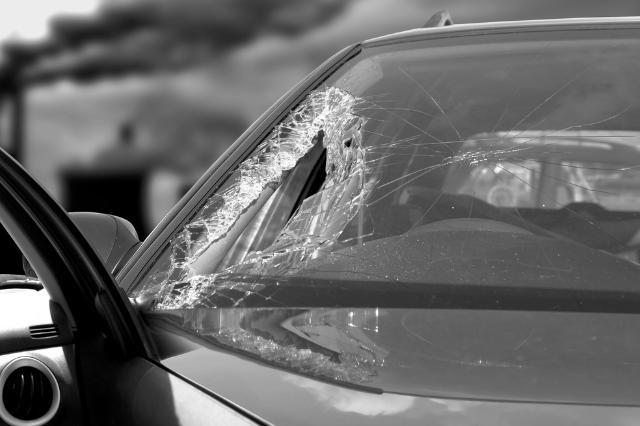Windshield: (154, 85, 618, 380)
